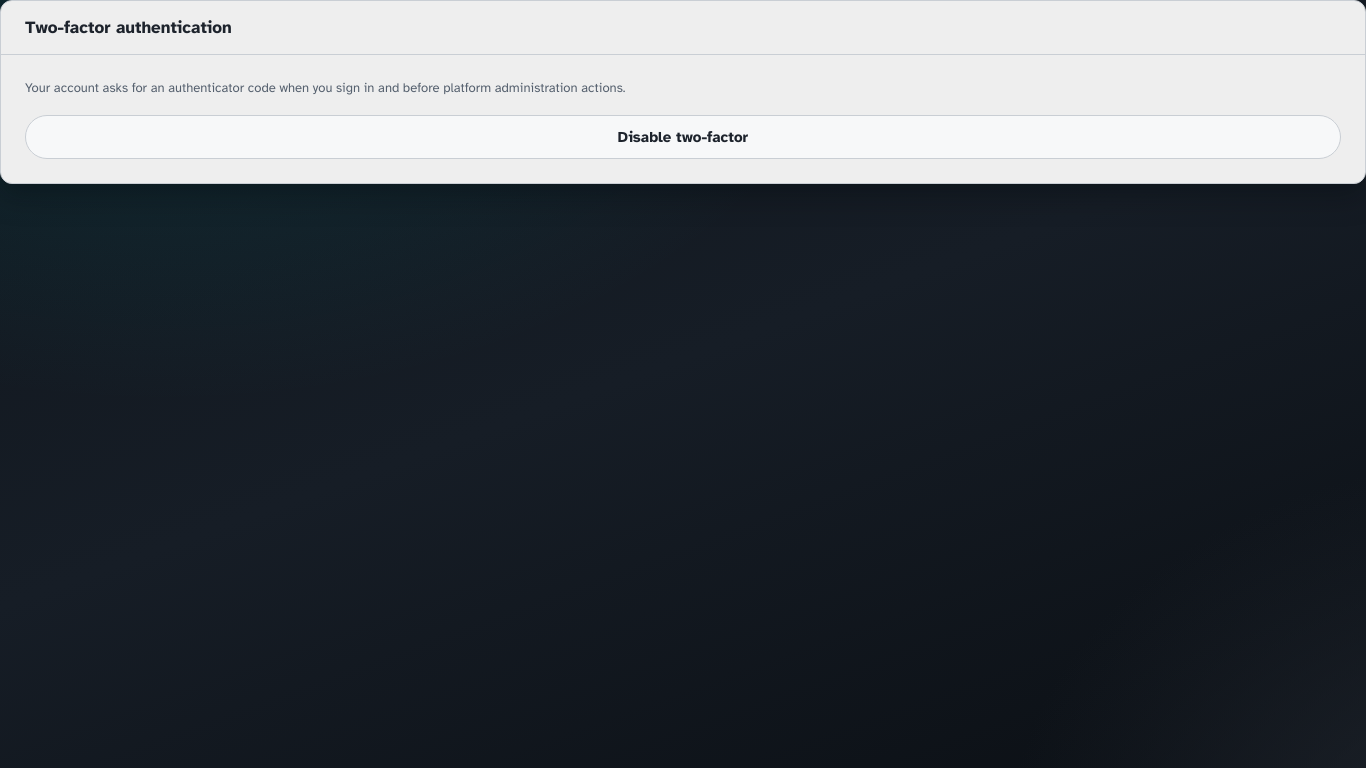
Test: MfaEnrollmentCard › disables MFA only after confirming a code
Click the button "Disable two-factor": click(683, 137) [25,115,1341,159]
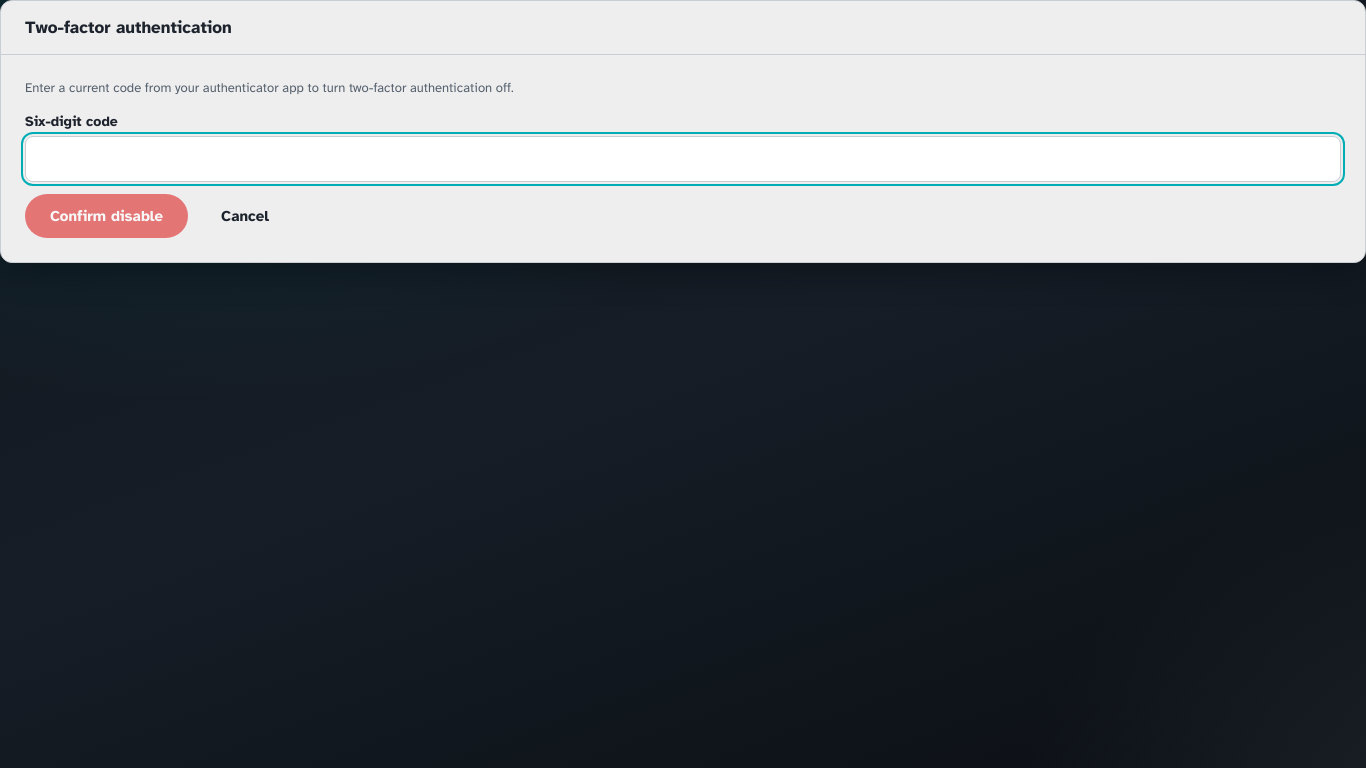
In the field labelled "Six-digit code": (683, 159) [25,136,1341,182], type "654321"
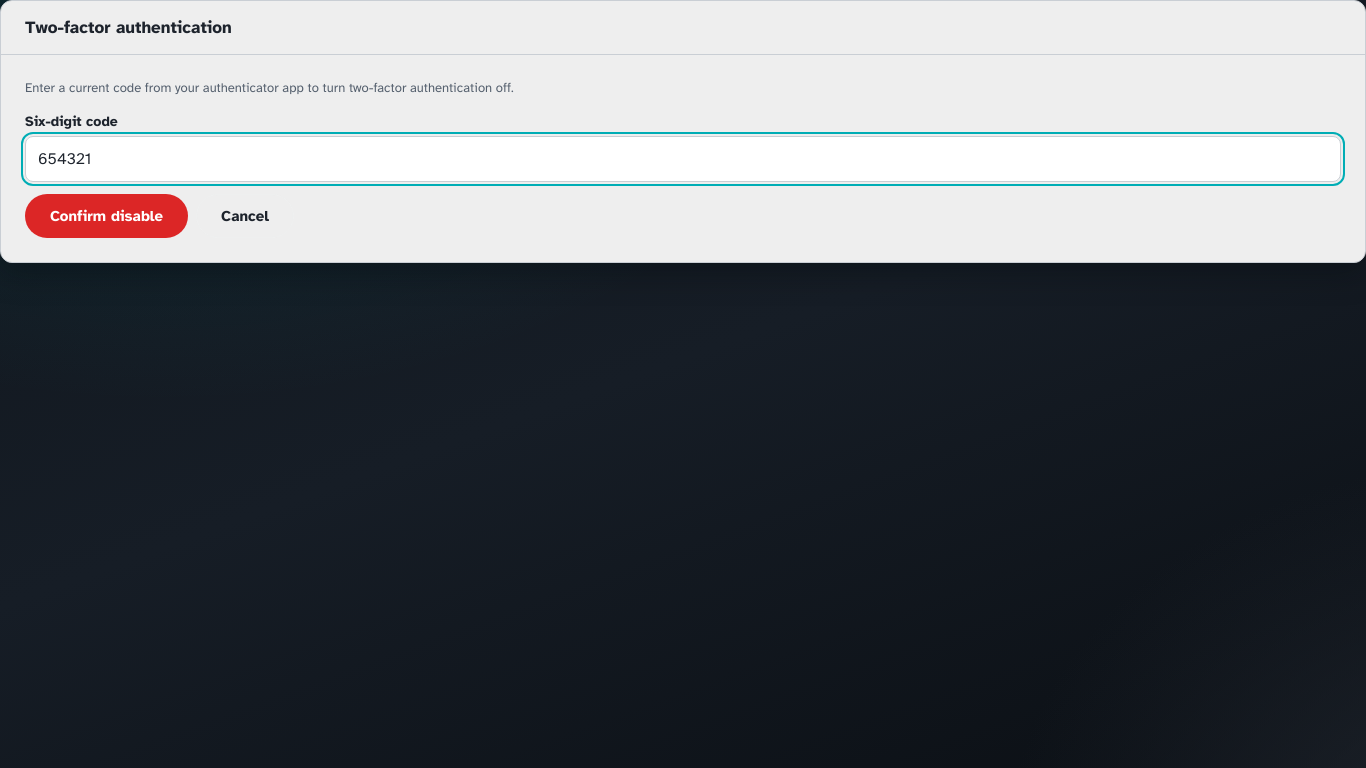
Click the button "Confirm disable": click(106, 216) [25,194,188,238]
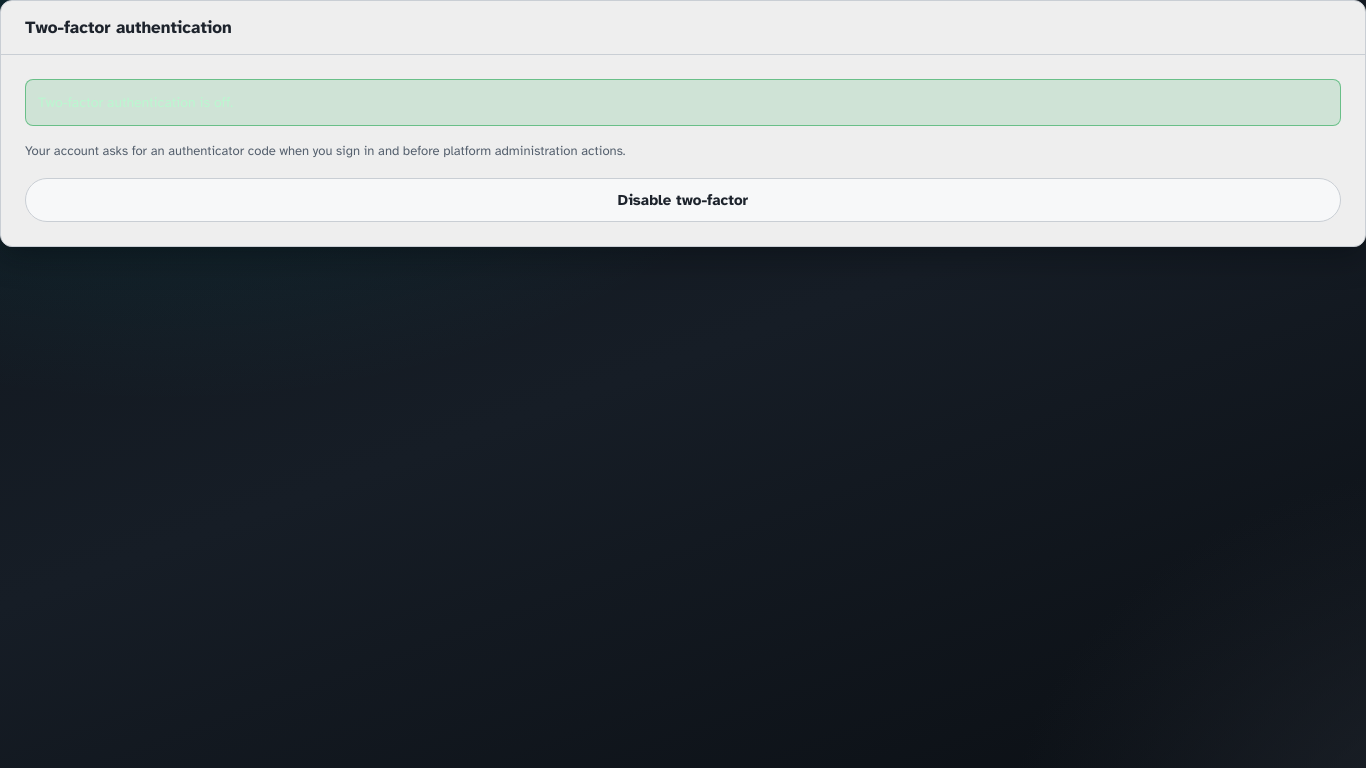
Result: the text "Two-factor authentication is off." is shown at [25,79,1341,126]
